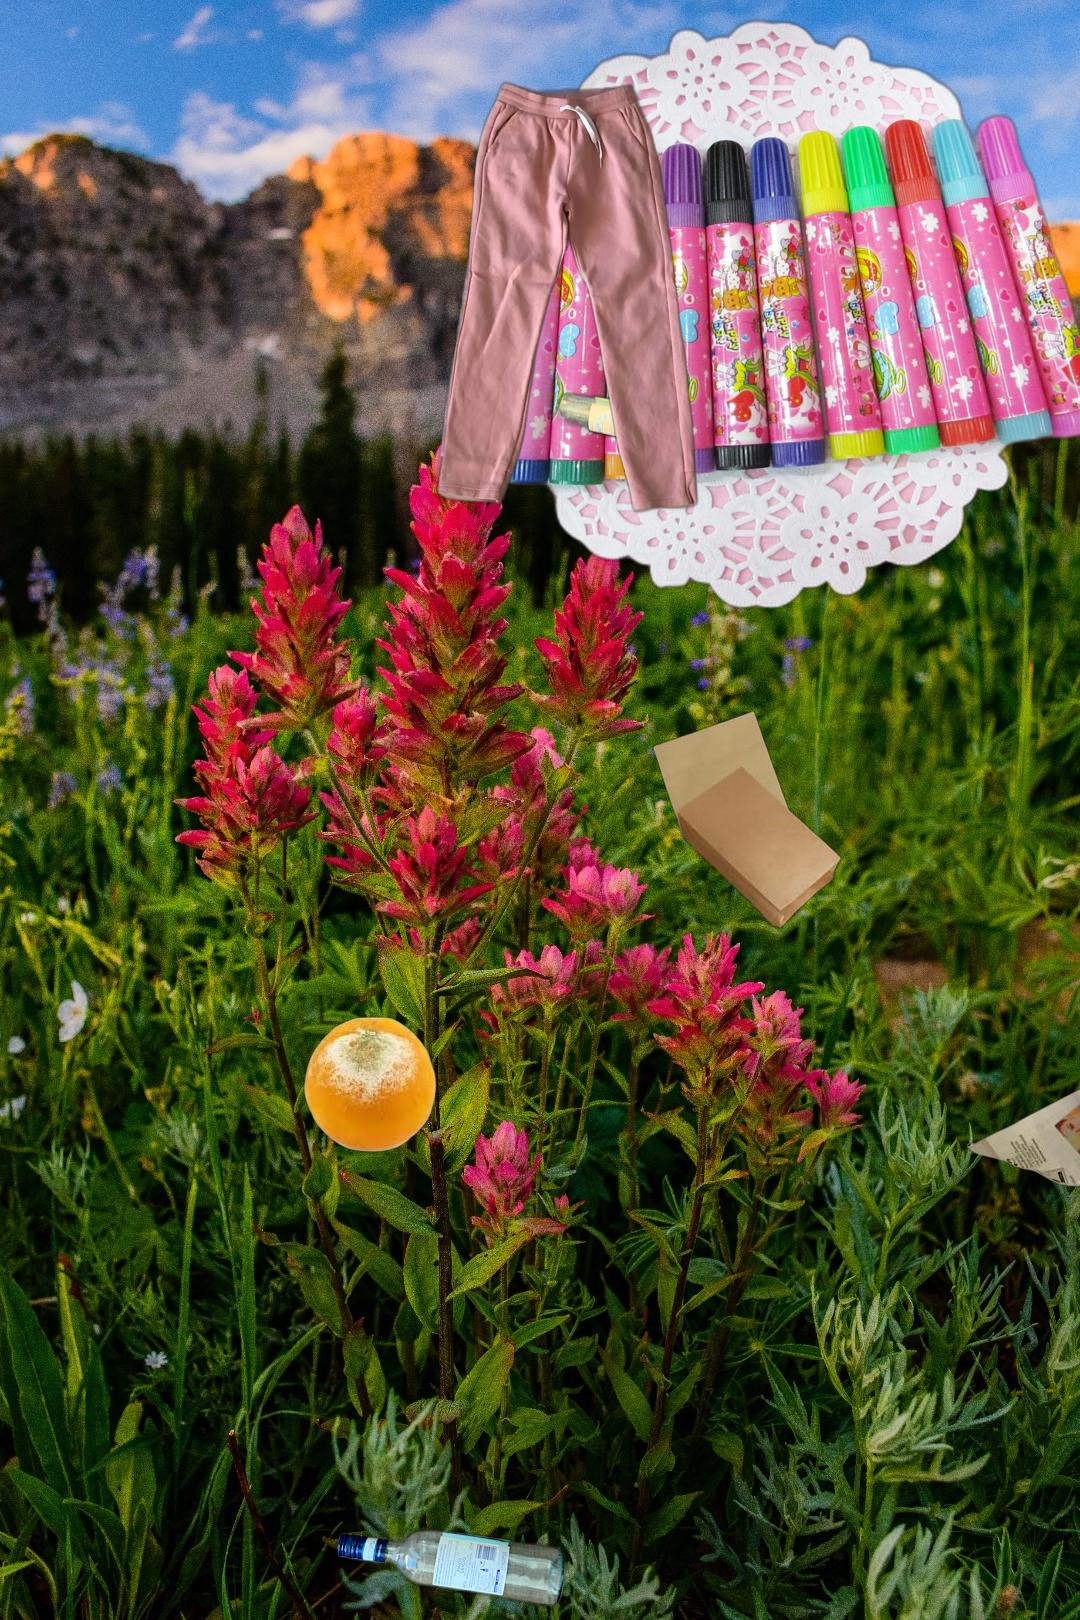biological: (303, 1014, 440, 1155)
clothes: (433, 78, 702, 517)
glass: (554, 178, 893, 447), (331, 1524, 570, 1613)
paper: (962, 1015, 1080, 1190)
paper-bag: (652, 709, 843, 941)
penholder: (432, 14, 1080, 616)
